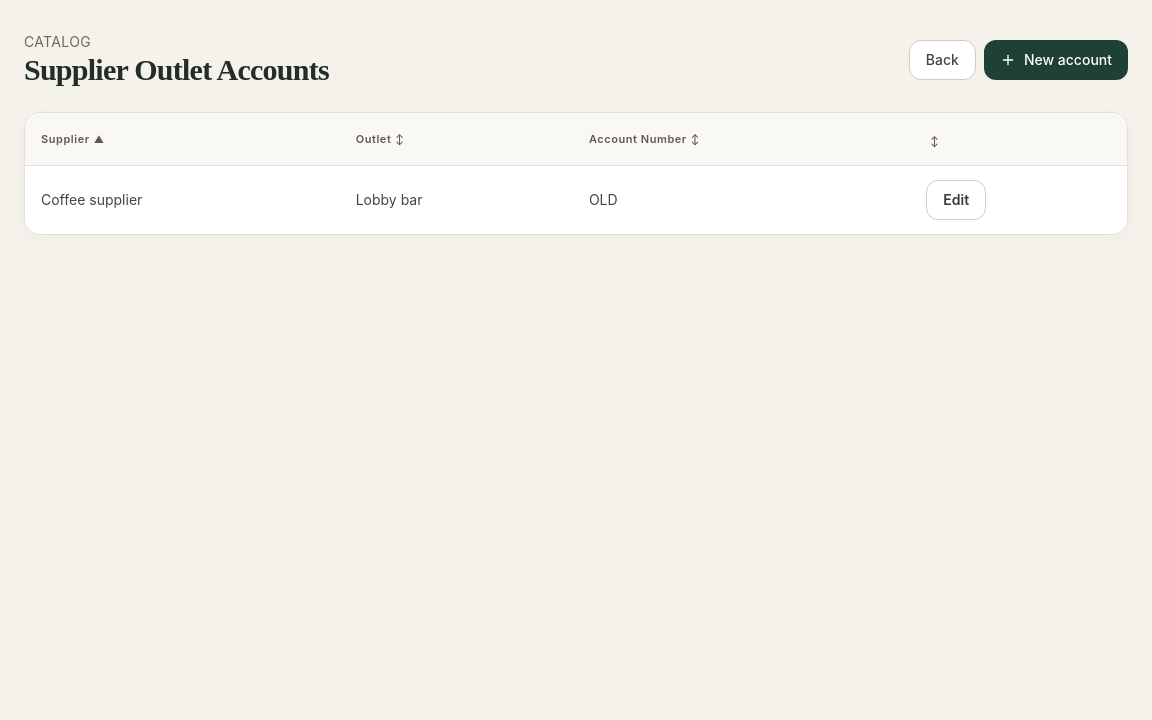
Test: edits only the account number with its stable identity/revision and reloads verified data
Click the button with aria-label "Edit account for Lobby bar": (956, 200) [926, 180, 986, 220]
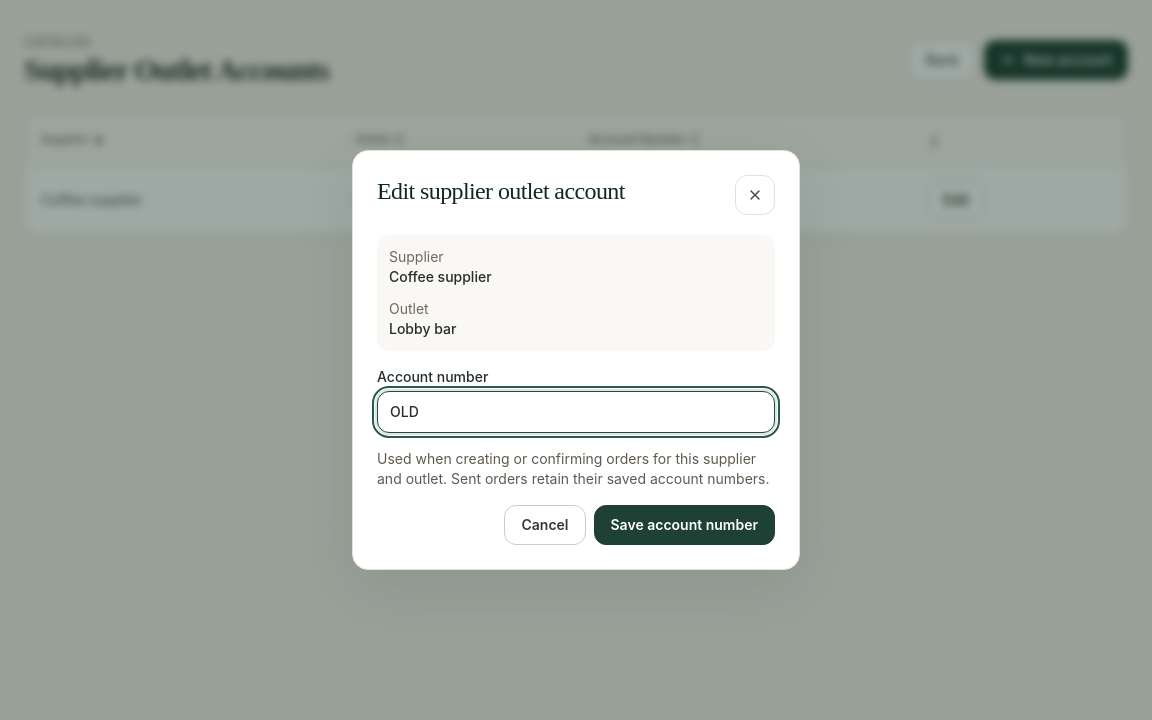
Replace the text in the field labelled "Account number" with "NEW": (576, 412) [377, 391, 775, 433]
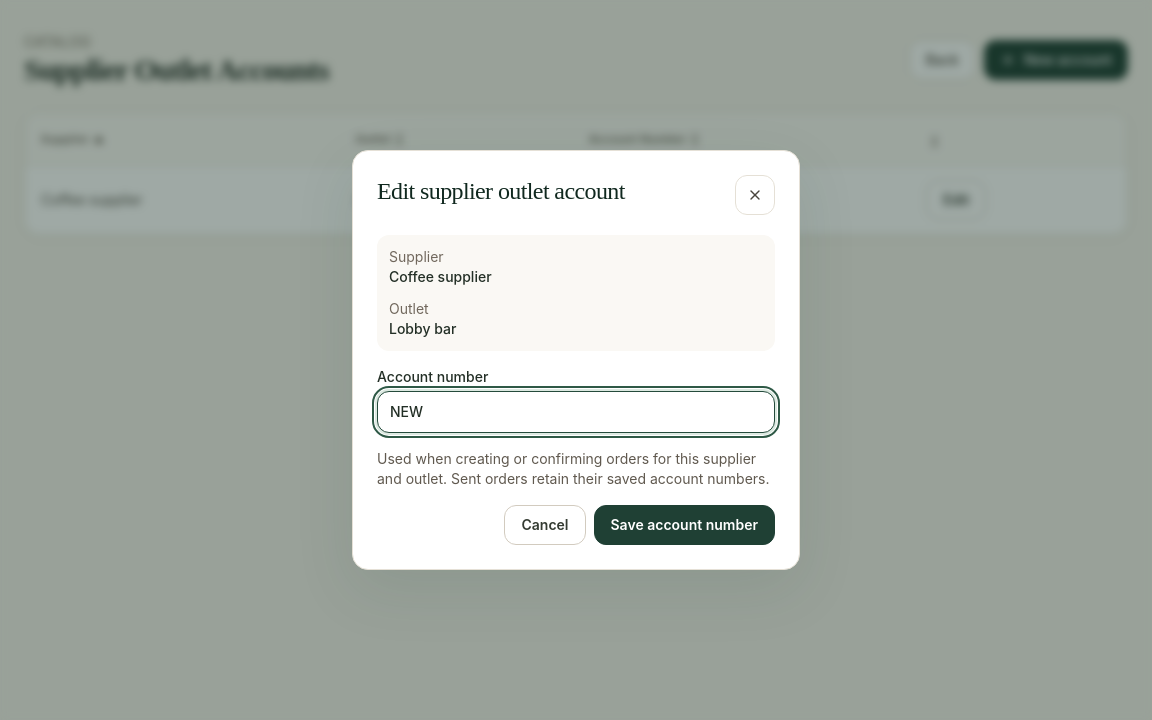
Check: the text "Sent orders retain" is shown, box [377, 450, 770, 487]
Click the button "Save account number": (684, 525) [594, 505, 775, 545]
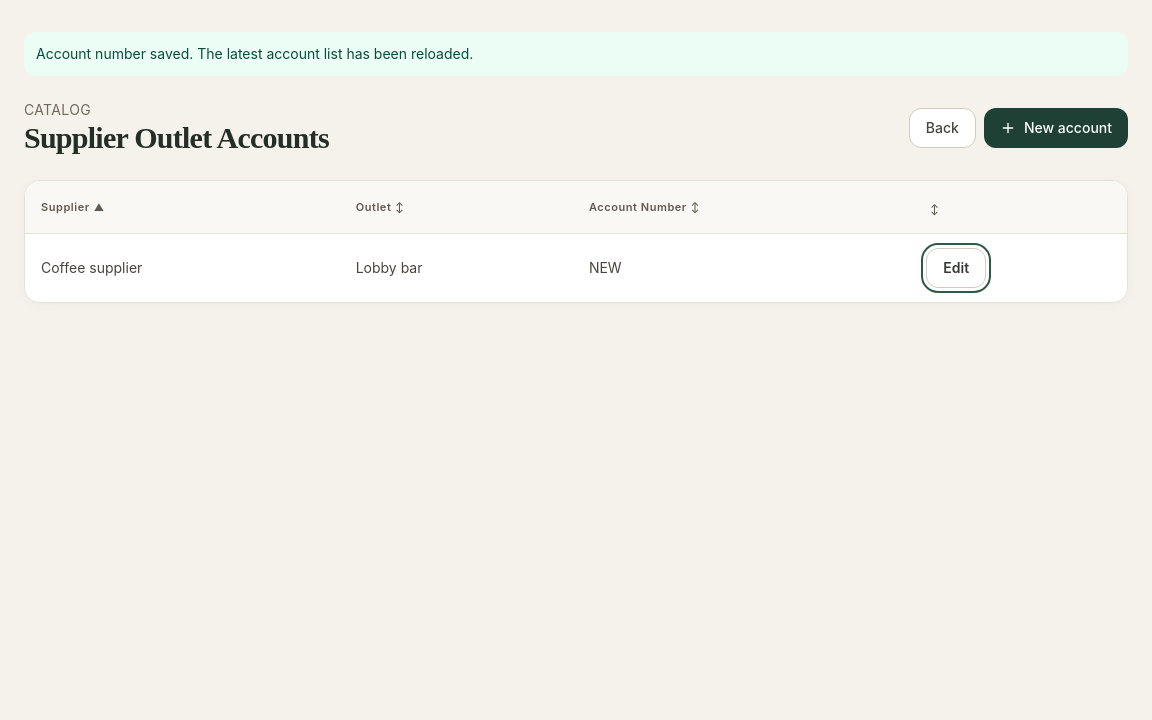
Check: the text "NEW" is shown, box [573, 234, 910, 302]
Check: the dialog is gone
